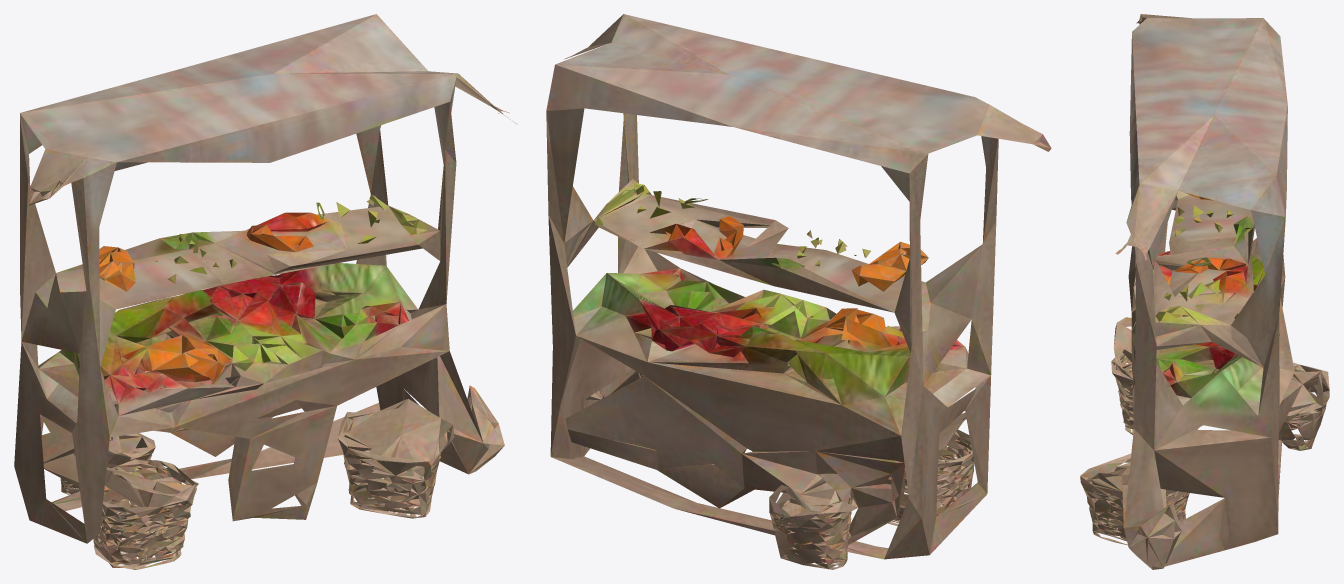
File: market_stall.glb
The picture shows the model from 3 angles, left to right: view 1: azimuth 30°, elevation 25°; view 2: azimuth 150°, elevation 25°; view 3: azimuth 270°, elevation 25°; orthographic projection. The views are drawn at different scales.
Parts seen in each view (by area): view 1: market_stall; view 2: market_stall; view 3: market_stall.
Part boxes in pixels (box(x1,y1,x2,y2)): market_stall: box(14, 14, 517, 569); market_stall: box(546, 14, 1051, 569); market_stall: box(1080, 14, 1329, 569).
Size of the model in its own units: 2.89 by 2.4 by 1.42.
1 material, 1 textured.
